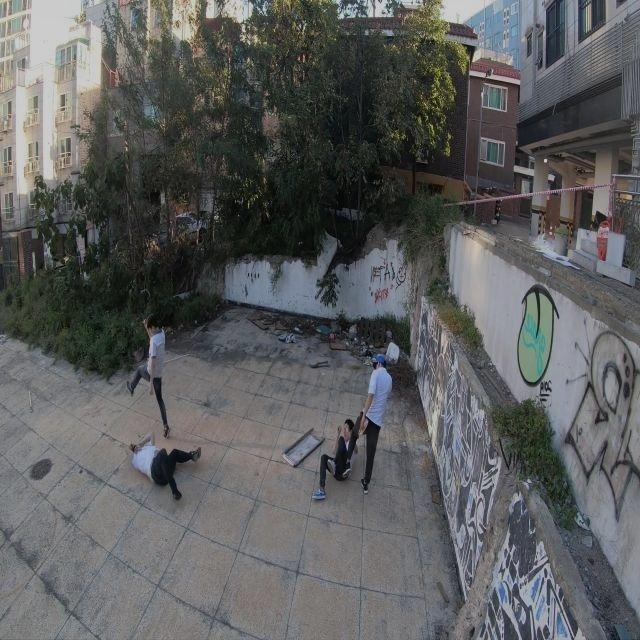fight: (124, 319, 203, 503), (317, 360, 392, 502)
